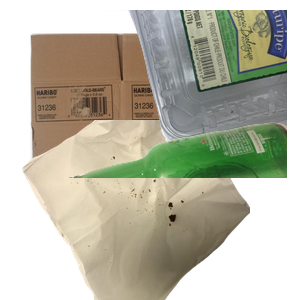cardboard: (28, 31, 249, 195)
glass: (60, 120, 300, 300)
plastic: (60, 10, 300, 149)
trash: (20, 120, 260, 300)
